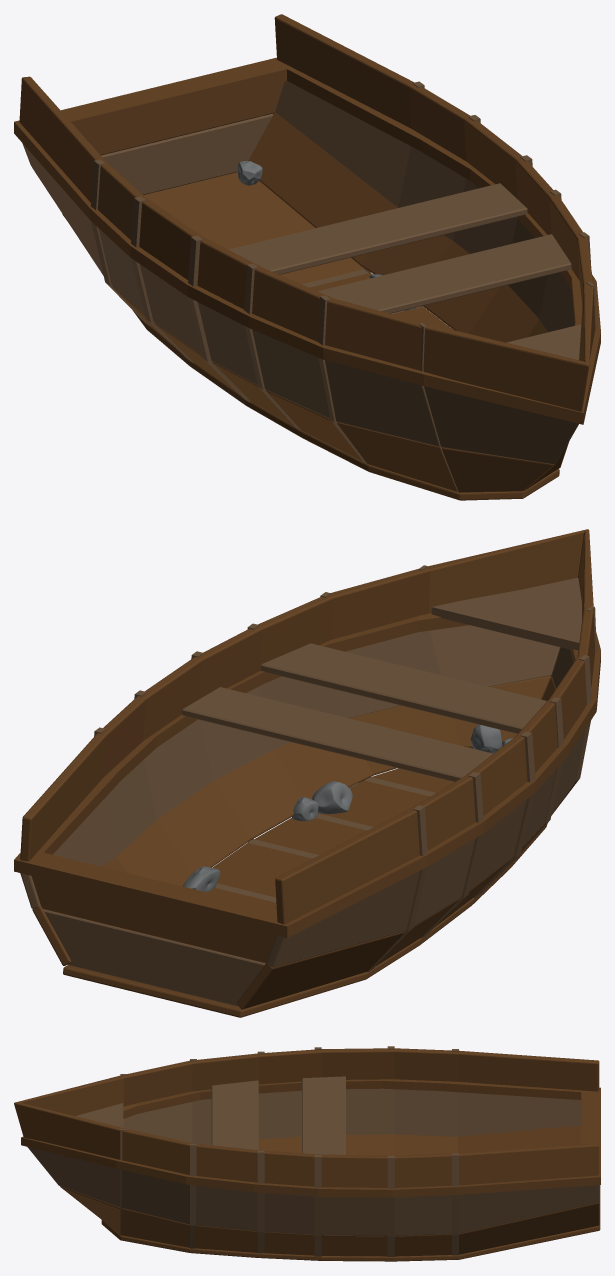
The model's file is Broken Boat 4.fbx.
The picture shows the model from 3 angles, top to bottom: view 1: azimuth 30°, elevation 25°; view 2: azimuth 150°, elevation 25°; view 3: azimuth 270°, elevation 25°; orthographic projection. The views are drawn at different scales.
Parts seen in each view (by area): view 1: Boat Main Shape.002, Boat Main Shape.003, Boat Main Shape.004, Inner Rim, Boat Main Shape, Cube, Cube.001, Boat Back Part.003, Boat Main Shape.001, Boat Back Part.002, Cube.002; view 2: Boat Main Shape.002, Boat Main Shape.003, Boat Main Shape.004, Inner Rim, Boat Main Shape, Cube, Cube.001, Boat Back Part.003, Boat Back Part.002, Boat Main Shape.001, Cube.002, Cube.009 (+2 smaller); view 3: Boat Main Shape.002, Boat Main Shape.003, Boat Main Shape.004, Inner Rim, Boat Main Shape.001, Cube, Cube.001, Boat Main Shape, Cube.002.
Boxes of the visible parts, x1,y1,x2,y2 form: Boat Main Shape.002: (19, 14, 595, 411); Boat Main Shape.003: (22, 81, 578, 464); Boat Main Shape.004: (32, 112, 567, 492); Inner Rim: (14, 57, 600, 424); Boat Main Shape: (62, 172, 559, 500); Cube: (228, 183, 527, 274); Cube.001: (318, 234, 571, 313); Boat Back Part.003: (101, 114, 272, 194); Boat Main Shape.001: (90, 81, 596, 492); Boat Back Part.002: (79, 81, 284, 155); Cube.002: (506, 324, 581, 360); Boat Main Shape.002: (20, 529, 595, 924); Boat Main Shape.003: (20, 625, 585, 967); Boat Main Shape.004: (32, 676, 574, 1009); Inner Rim: (14, 613, 600, 938); Boat Main Shape: (63, 768, 547, 1017); Cube: (182, 687, 492, 781); Cube.001: (260, 643, 546, 733); Boat Back Part.003: (44, 909, 265, 1006); Boat Back Part.002: (31, 876, 276, 963); Boat Main Shape.001: (94, 565, 596, 971); Cube.002: (431, 578, 581, 650); Cube.009: (312, 781, 352, 813); Boat Main Shape.002: (14, 1048, 599, 1187); Boat Main Shape.003: (27, 1088, 599, 1236); Boat Main Shape.004: (60, 1125, 599, 1256); Inner Rim: (21, 1079, 600, 1197); Boat Main Shape.001: (120, 1046, 458, 1256); Cube: (302, 1076, 345, 1154); Cube.001: (211, 1080, 258, 1150); Boat Main Shape: (101, 1185, 600, 1261); Cube.002: (75, 1103, 123, 1127).
Bounding box in the file's own units: 288 × 142 × 620.
